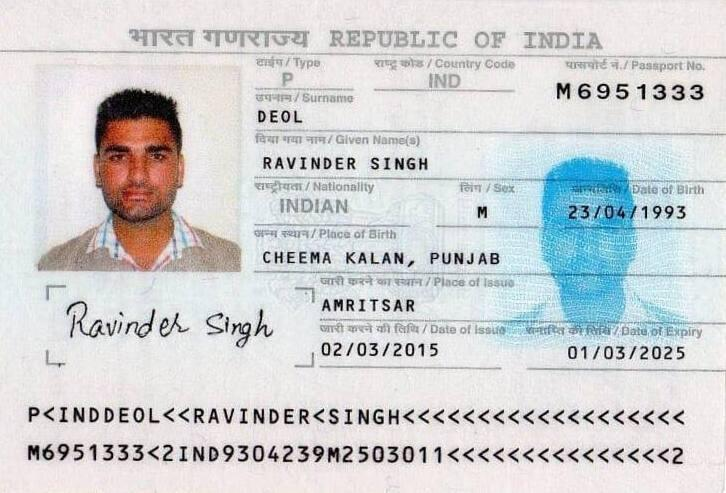DOB: (547, 196, 709, 230)
Surname: (247, 103, 331, 132)
country_code: (414, 67, 490, 94)
date_of_expiry: (553, 340, 714, 371)
date_of_issue: (318, 335, 463, 369)
details: (15, 389, 708, 482)
name: (254, 146, 491, 178)
nationality: (267, 192, 368, 224)
passport_no: (544, 74, 714, 109)
photo: (38, 63, 240, 271)
place_of_birth: (253, 239, 525, 271)
place_of_issue: (317, 288, 444, 319)
sex: (461, 196, 519, 226)
sign: (66, 290, 291, 355)
type: (264, 65, 331, 91)
